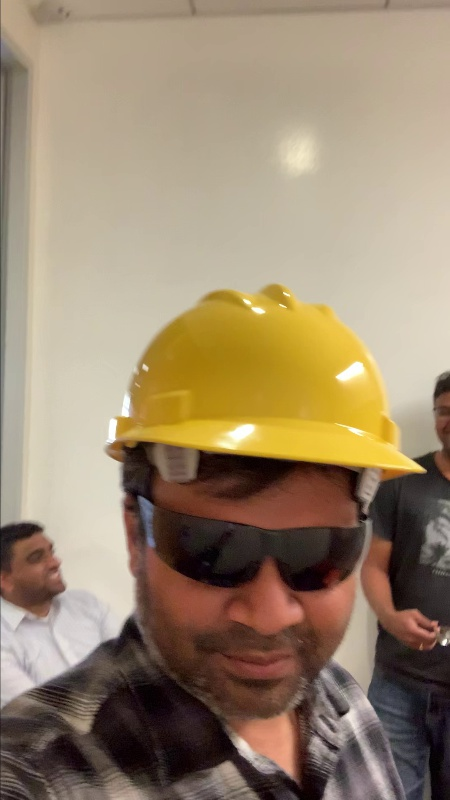glasses: (151, 506, 366, 598)
helmet: (98, 277, 428, 481)
